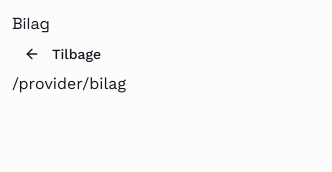
BackButton — always goes one step back › navigates from a dashboard page back to the previous dashboard page
Expected: the text with test id "pathname" reads "/provider/bilag", [12,74,126,93]
Click the button with aria-label "forrige side".
click(63, 54)  # box [12,36,113,72]
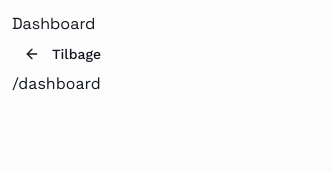
Expected: the text with test id "pathname" reads "/dashboard", [12,74,101,93]
